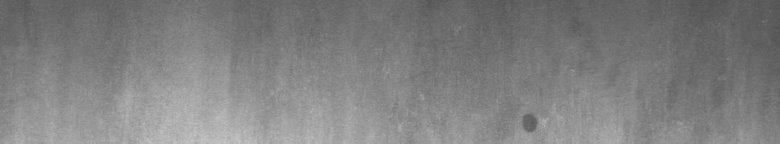fi: (516, 108, 548, 136)
